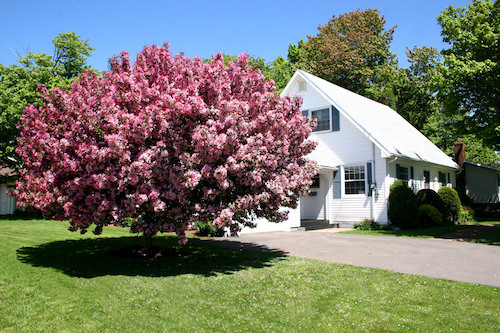tree: (14, 45, 318, 261)
